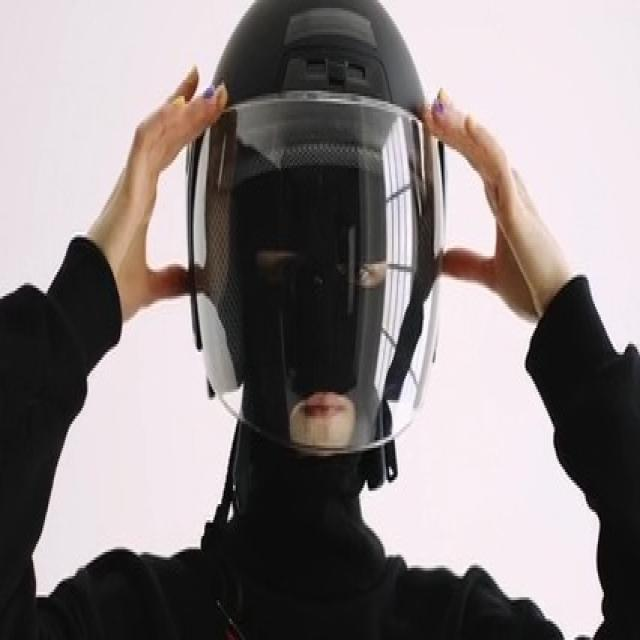Helmet_Wearer: (179, 0, 476, 638)
Person: (1, 0, 639, 640)
